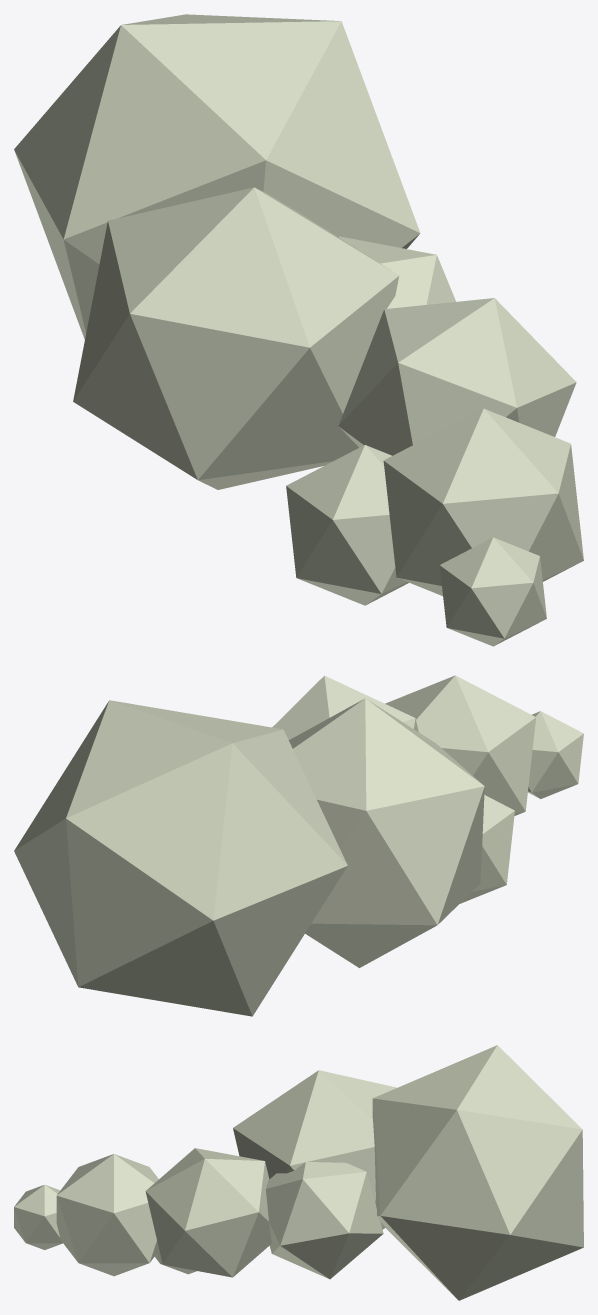
The model's file is smoke.glb.
3 views of the same model, one above another, from view 1: azimuth 30°, elevation 25°; view 2: azimuth 150°, elevation 25°; view 3: azimuth 270°, elevation 25° (orthographic). The views are drawn at different scales.
Parts seen in each view (by area): view 1: Icosphere.003, Icosphere.005, Icosphere.001, Icosphere, Icosphere.002, Icosphere.006, Icosphere.004; view 2: Icosphere.005, Icosphere.003, Icosphere.001, Icosphere.006, Icosphere, Icosphere.002; view 3: Icosphere.005, Icosphere, Icosphere.003, Icosphere.004, Icosphere.001, Icosphere.006.
Part boxes in pixels (box(x1,y1,x2,y2)): Icosphere.003: box(73, 187, 398, 489); Icosphere.005: box(14, 14, 420, 339); Icosphere.001: box(383, 408, 583, 595); Icosphere: box(338, 298, 576, 455); Icosphere.002: box(286, 445, 408, 605); Icosphere.006: box(439, 537, 546, 646); Icosphere.004: box(338, 236, 455, 308); Icosphere.005: box(14, 700, 347, 1016); Icosphere.003: box(289, 698, 484, 967); Icosphere.001: box(385, 675, 535, 815); Icosphere.006: box(528, 711, 583, 798); Icosphere: box(272, 675, 418, 739); Icosphere.002: box(460, 795, 514, 903); Icosphere.005: box(372, 1045, 583, 1300); Icosphere: box(145, 1148, 271, 1277); Icosphere.003: box(233, 1070, 396, 1229); Icosphere.004: box(266, 1161, 383, 1279); Icosphere.001: box(56, 1154, 159, 1276); Icosphere.006: box(14, 1184, 62, 1249).
Bounding box in the file's own units: 4.23 × 3.81 × 8.43.
